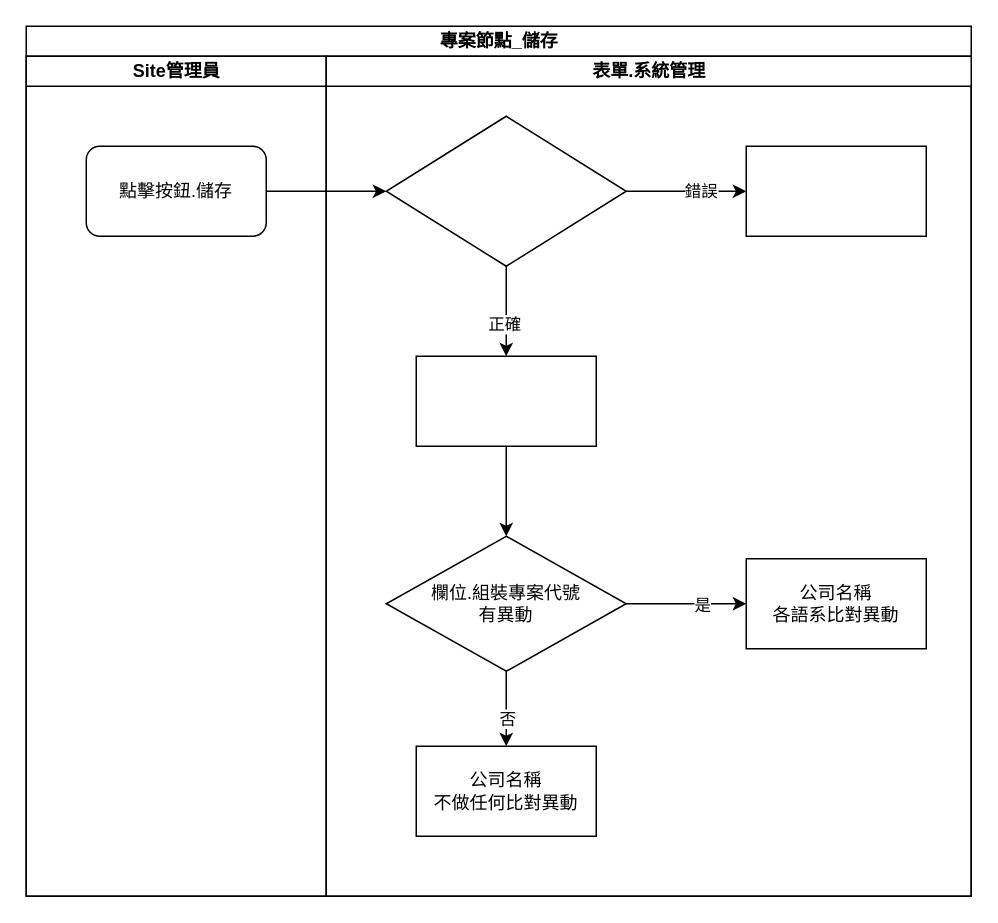
This 998x923 diagram has some shape labels left out. The centre of each missing label's shape, as x and y in pixels:
儲存專案資料: (x=505, y=400)
彈出錯誤訊息: (x=835, y=190)
檢查 專案名稱 是否設定正確: (x=505, y=190)
